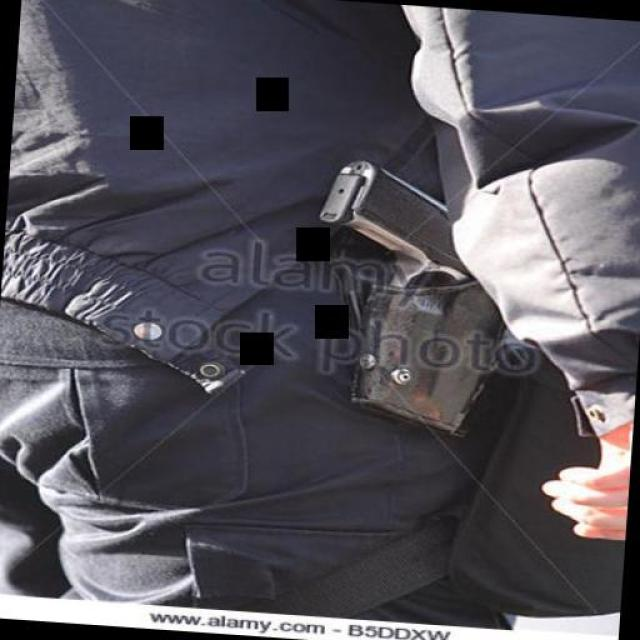gun: (296, 151, 528, 440)
